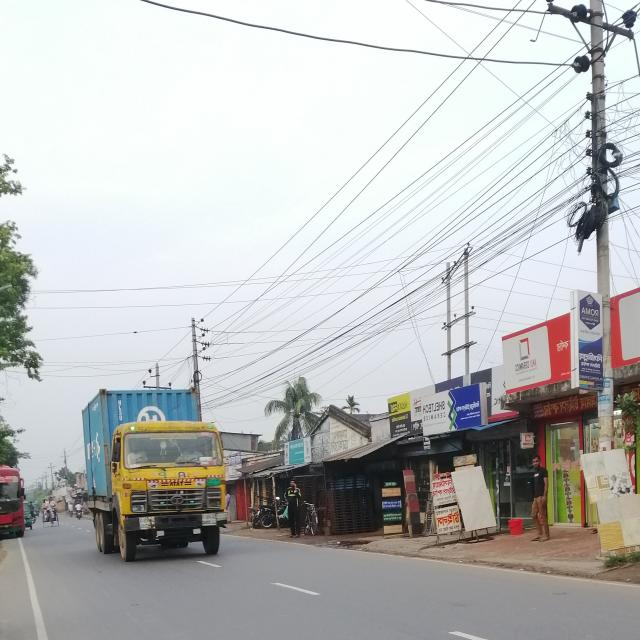Truck: (80, 385, 237, 564)
